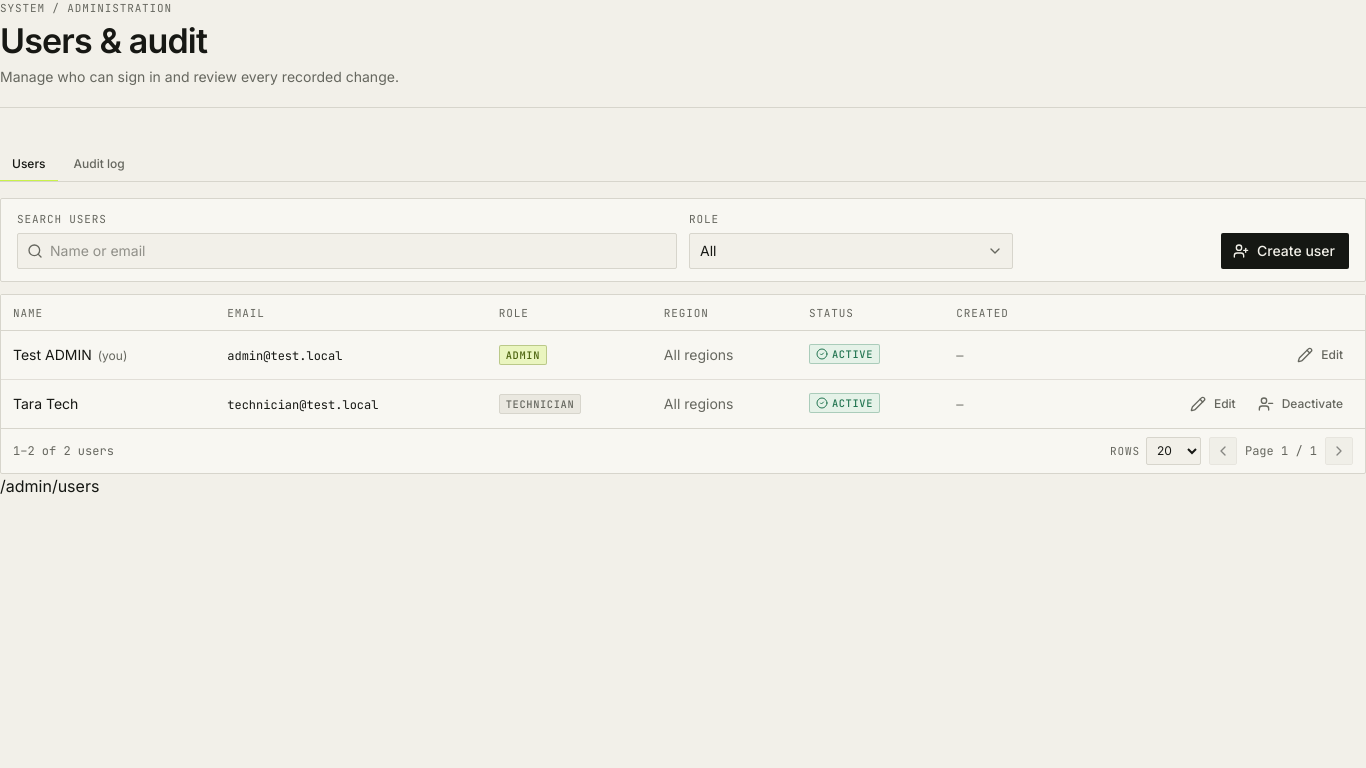
Test: AdminUsersPage › requires confirmation before deactivating a user from the table
Expected: the text "Tara Tech" is shown, top-left (13, 394), bottom-right (78, 412)
Click the button "Deactivate" at (1301, 404), box top-left (1250, 390), bottom-right (1353, 418)
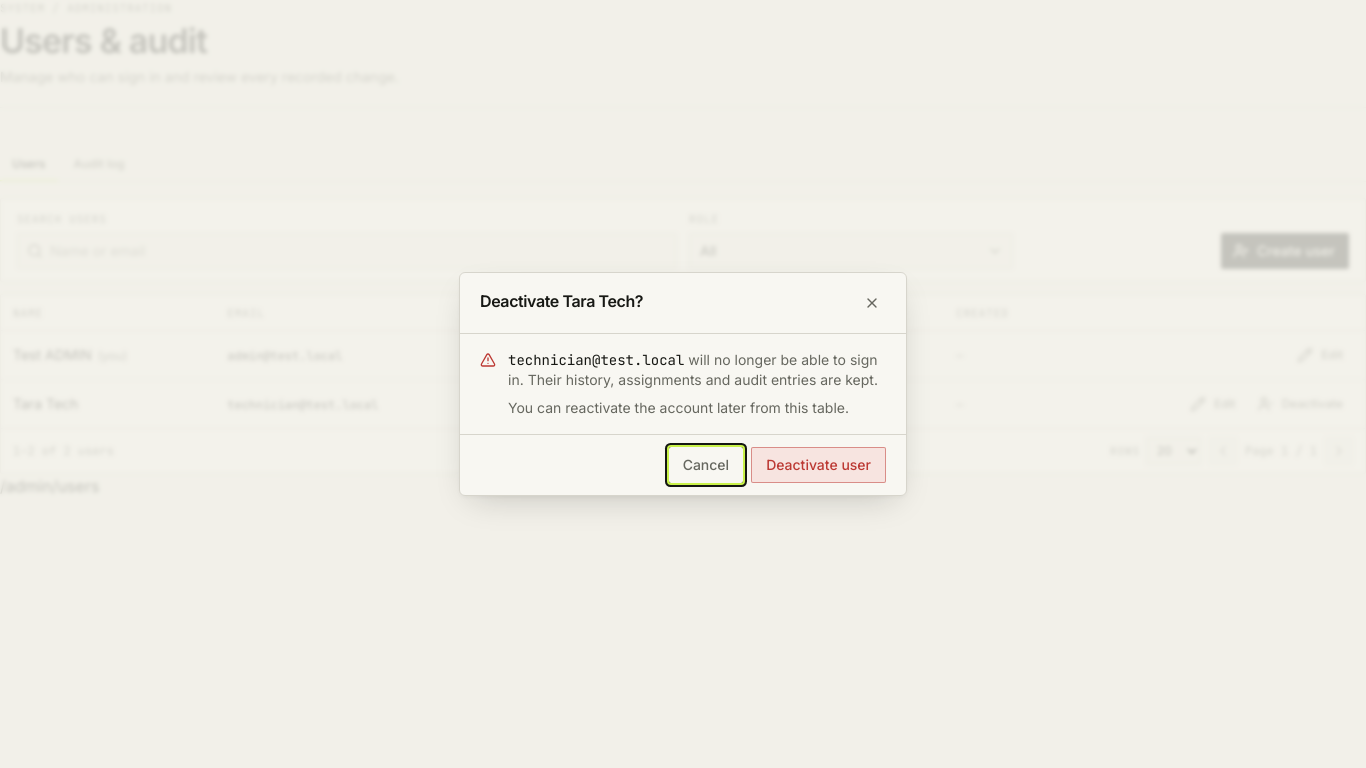
Click the button "Cancel" at (706, 465), box top-left (669, 447), bottom-right (743, 483)
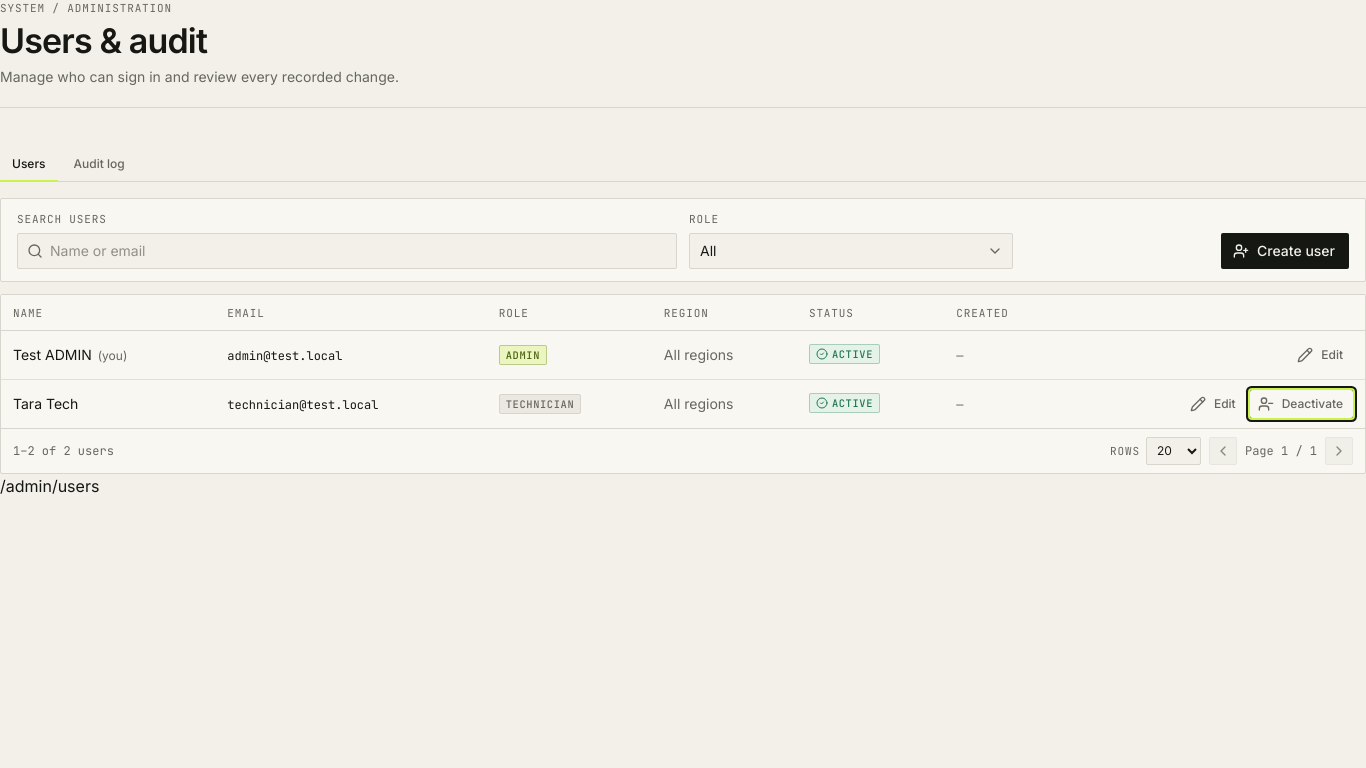
Now the dialog is gone
Click the button with aria-label "Deactivate Tara Tech" at (1301, 404), box top-left (1250, 390), bottom-right (1353, 418)
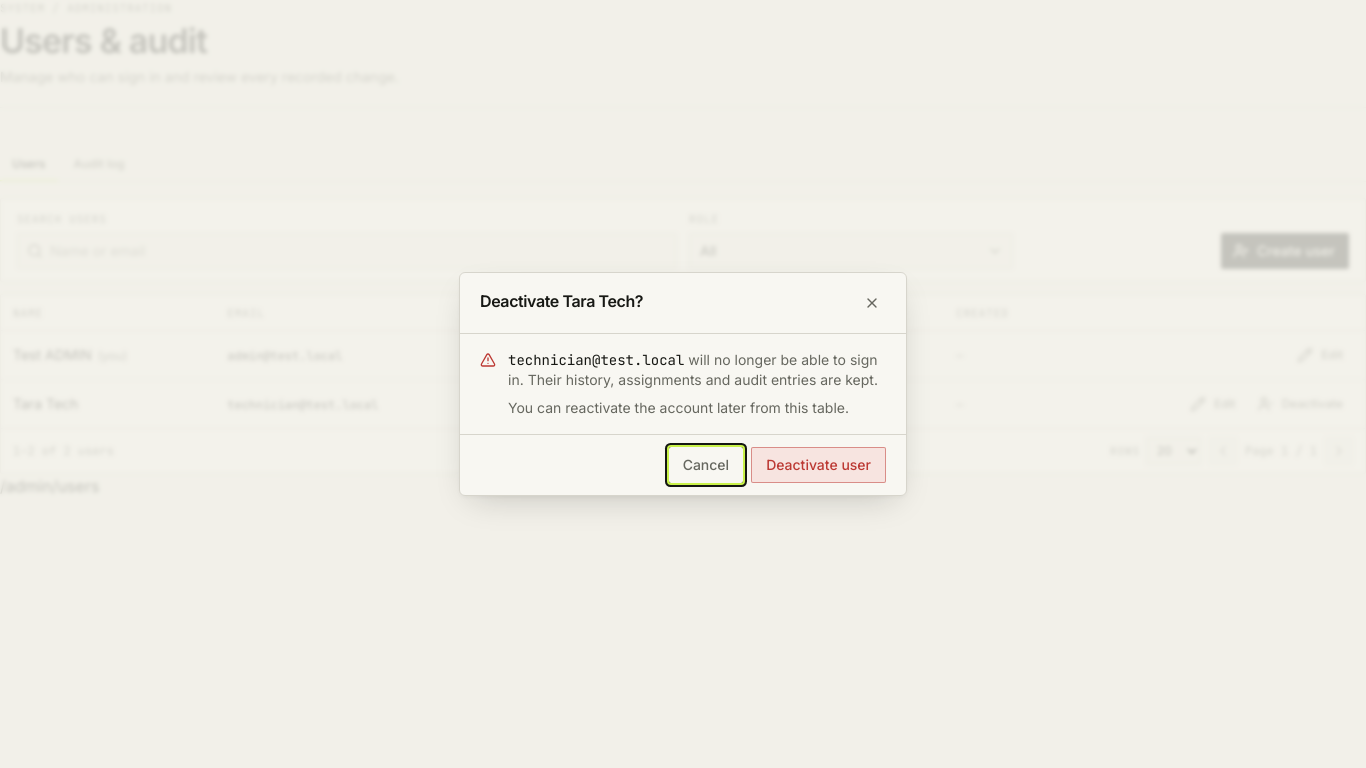
Click the button "Deactivate user" at (819, 465), box top-left (751, 447), bottom-right (886, 483)
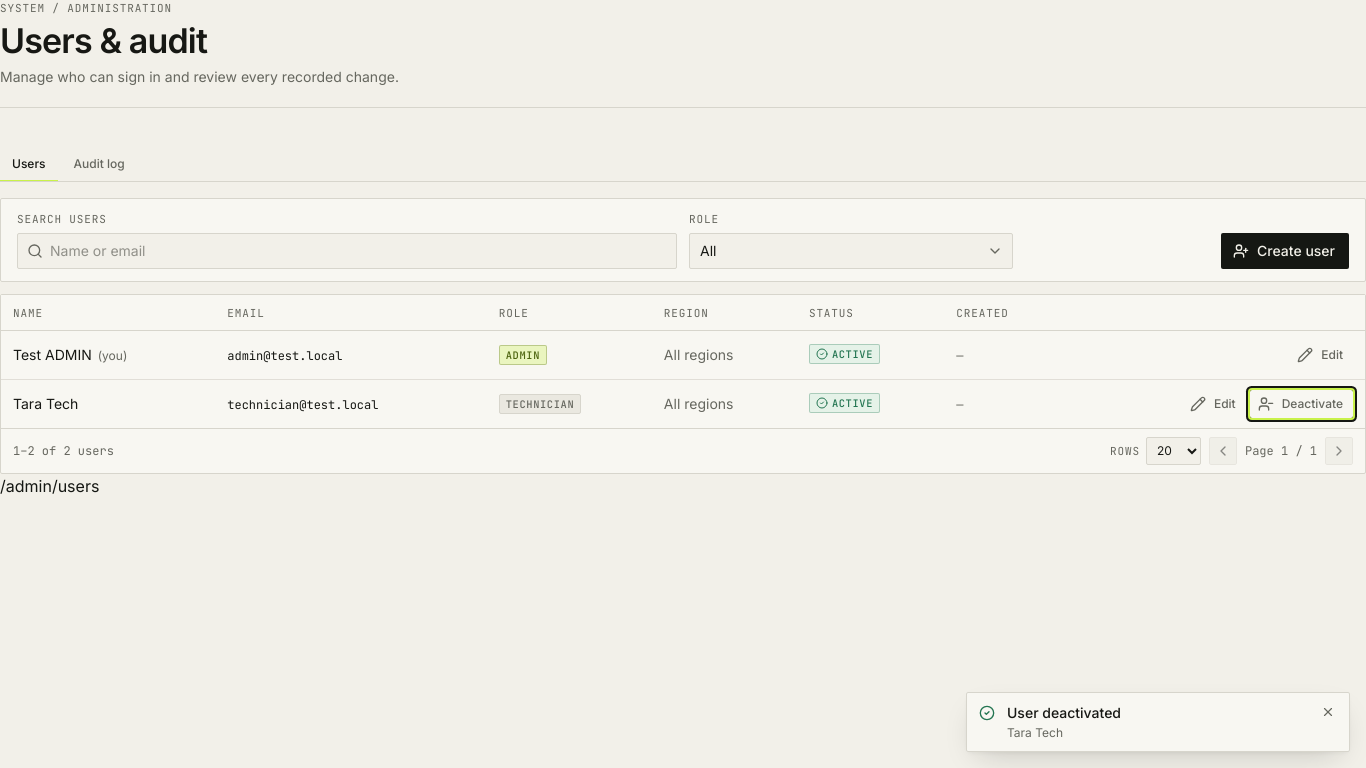
Now the dialog is gone
